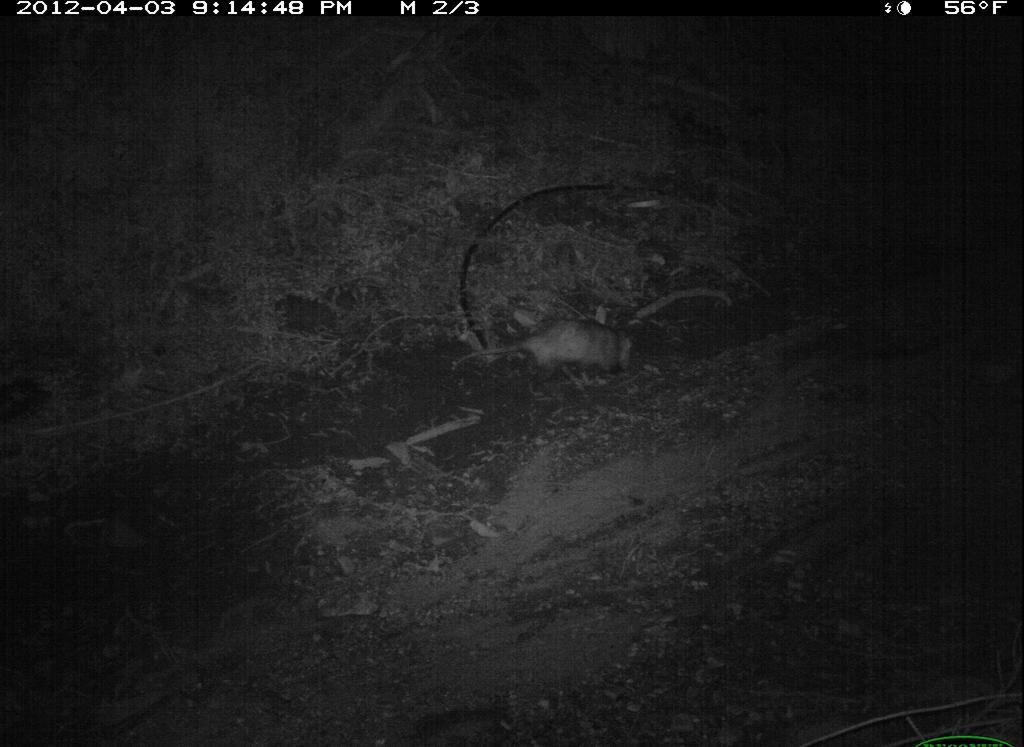opossum: (447, 309, 651, 387)
